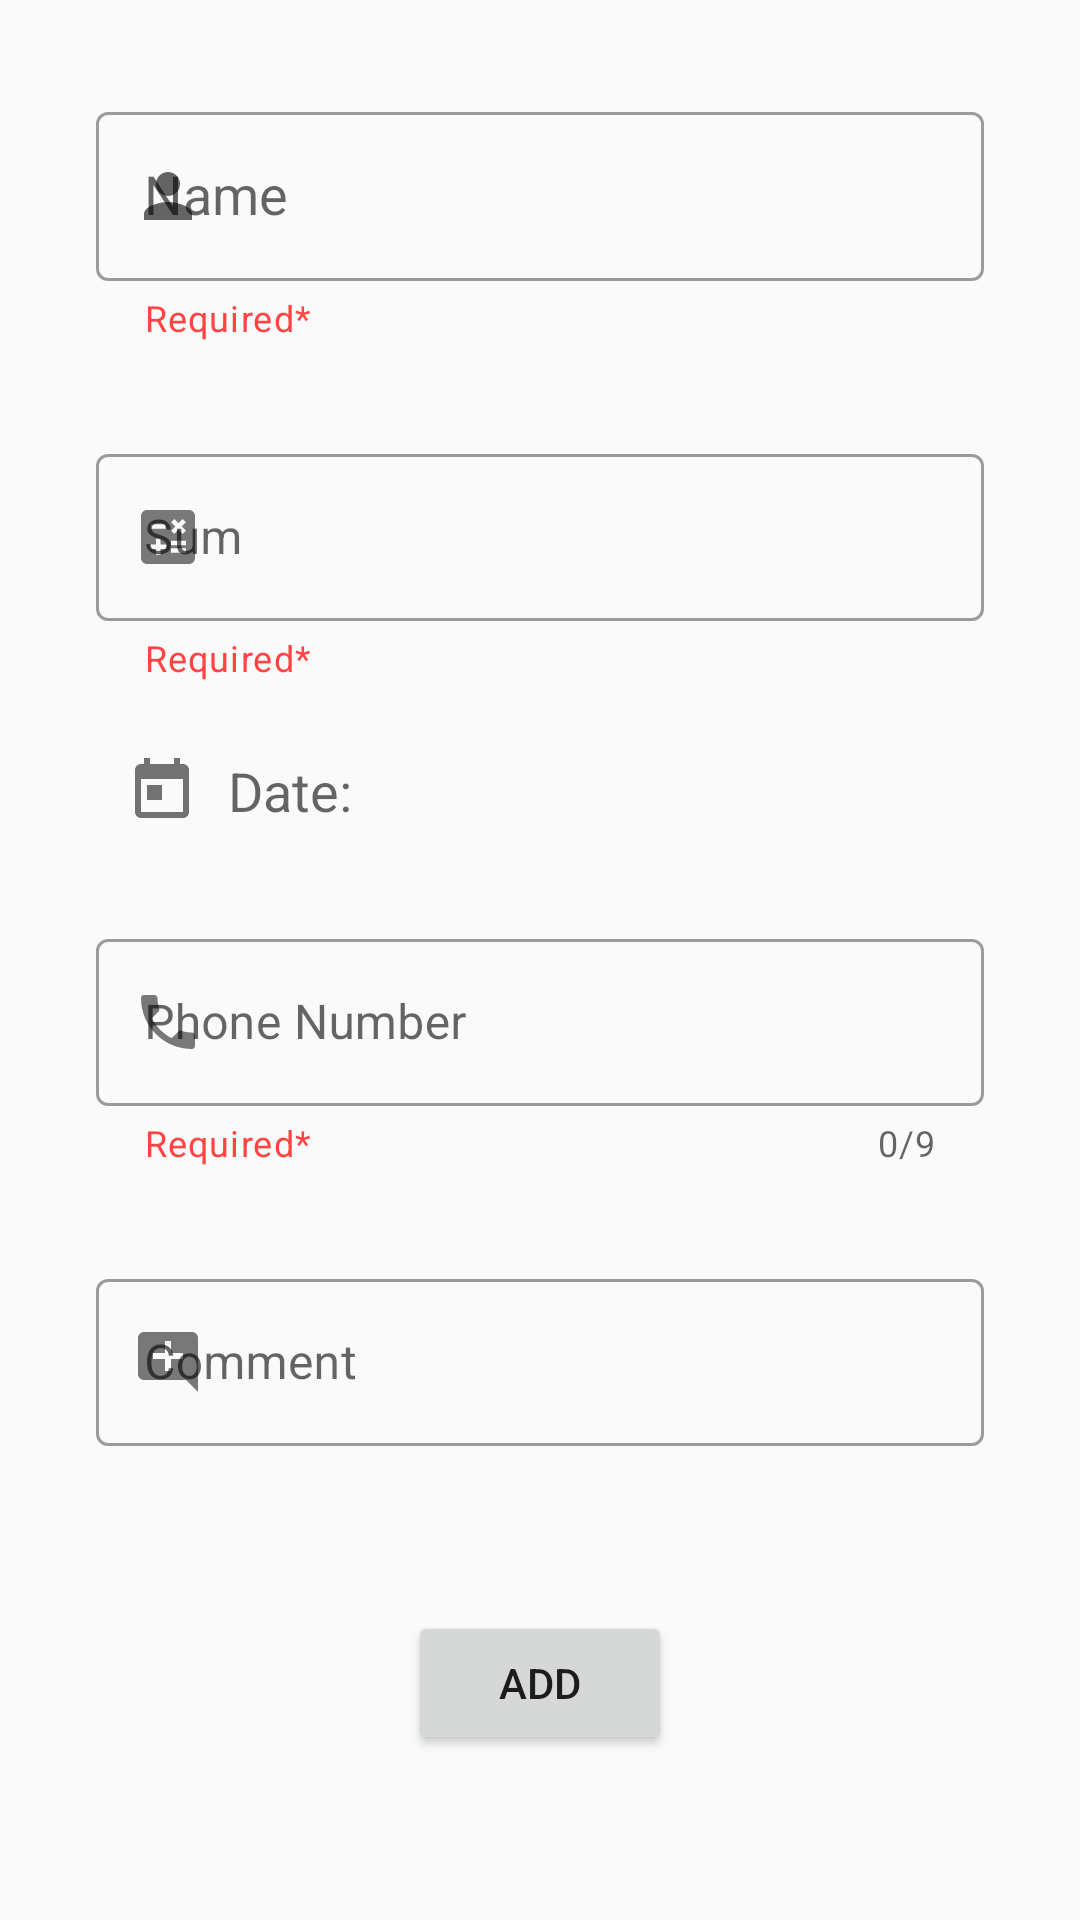

Where icons sit on this 1080 × 1920 app screen, as BBox(x1, y1, x2, y2):
today: BBox(135, 758, 189, 818)
